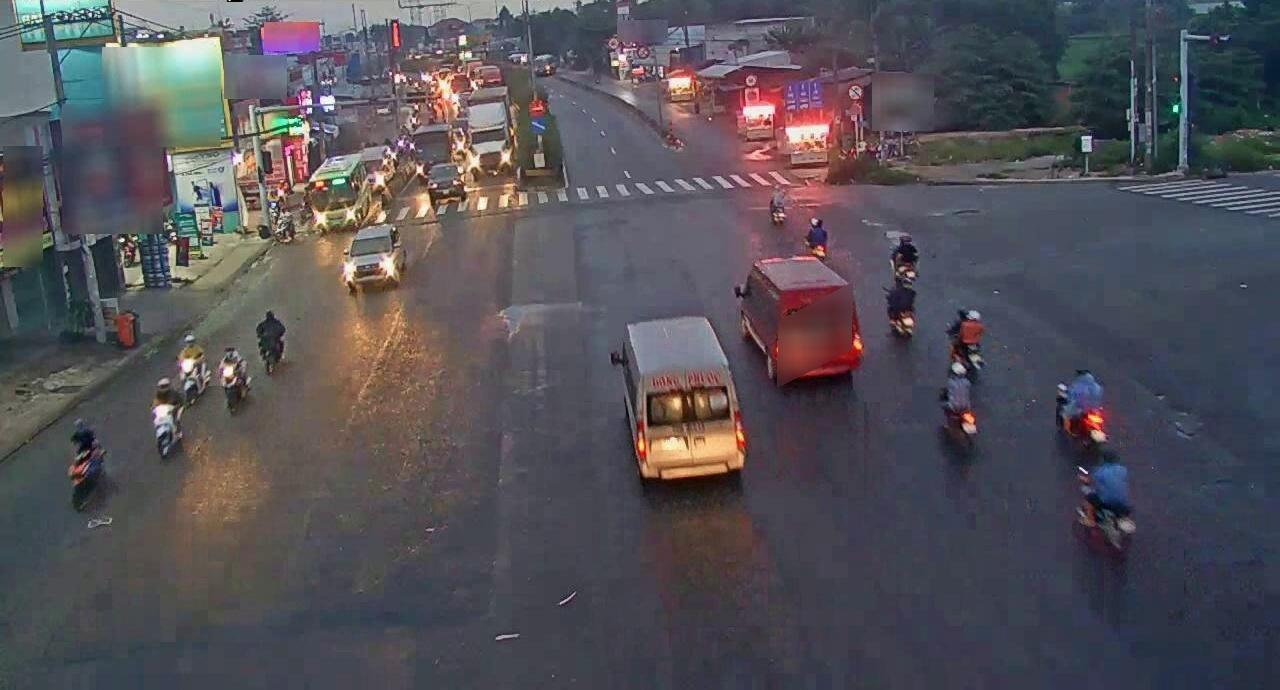xe hoi: (346, 222, 400, 282)
xe may: (1068, 458, 1147, 581), (1055, 363, 1114, 453), (60, 413, 112, 511), (936, 356, 977, 451), (149, 375, 184, 458), (943, 305, 985, 373), (173, 330, 212, 400), (883, 264, 917, 337), (254, 306, 289, 373), (219, 344, 253, 411), (804, 216, 830, 261), (765, 189, 789, 234)
xe van: (727, 243, 881, 399), (610, 312, 747, 480)
